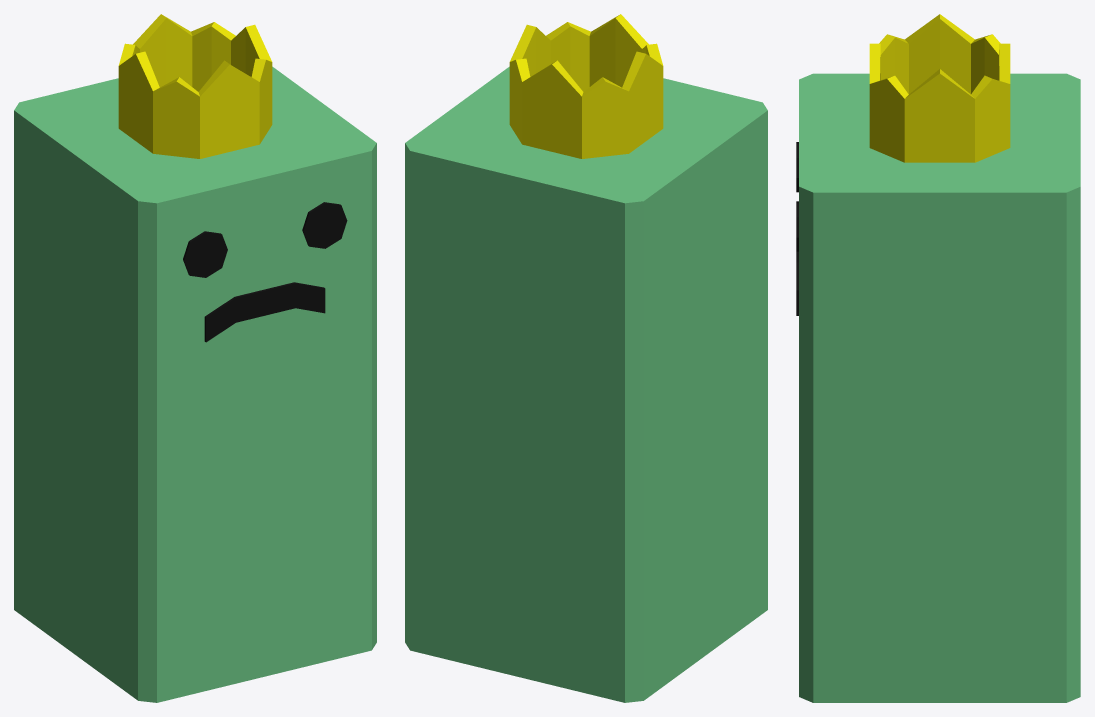
The model's file is EnemyKing.fbx.
The picture shows the model from 3 angles, left to right: view 1: azimuth 30°, elevation 25°; view 2: azimuth 150°, elevation 25°; view 3: azimuth 270°, elevation 25°; orthographic projection. The views are drawn at different scales.
Parts seen in each view (by area): view 1: EnemyKing, Crown.001; view 2: EnemyKing, Crown.001; view 3: EnemyKing, Crown.001.
Part boxes in pixels (left/top/right/bottom): EnemyKing: left=14, top=66, right=376, bottom=702; Crown.001: left=118, top=14, right=272, bottom=158; EnemyKing: left=405, top=66, right=767, bottom=702; Crown.001: left=509, top=14, right=663, bottom=158; EnemyKing: left=796, top=73, right=1080, bottom=702; Crown.001: left=869, top=14, right=1010, bottom=162.
Bounding box in the file's own units: 200 × 470 × 202.
